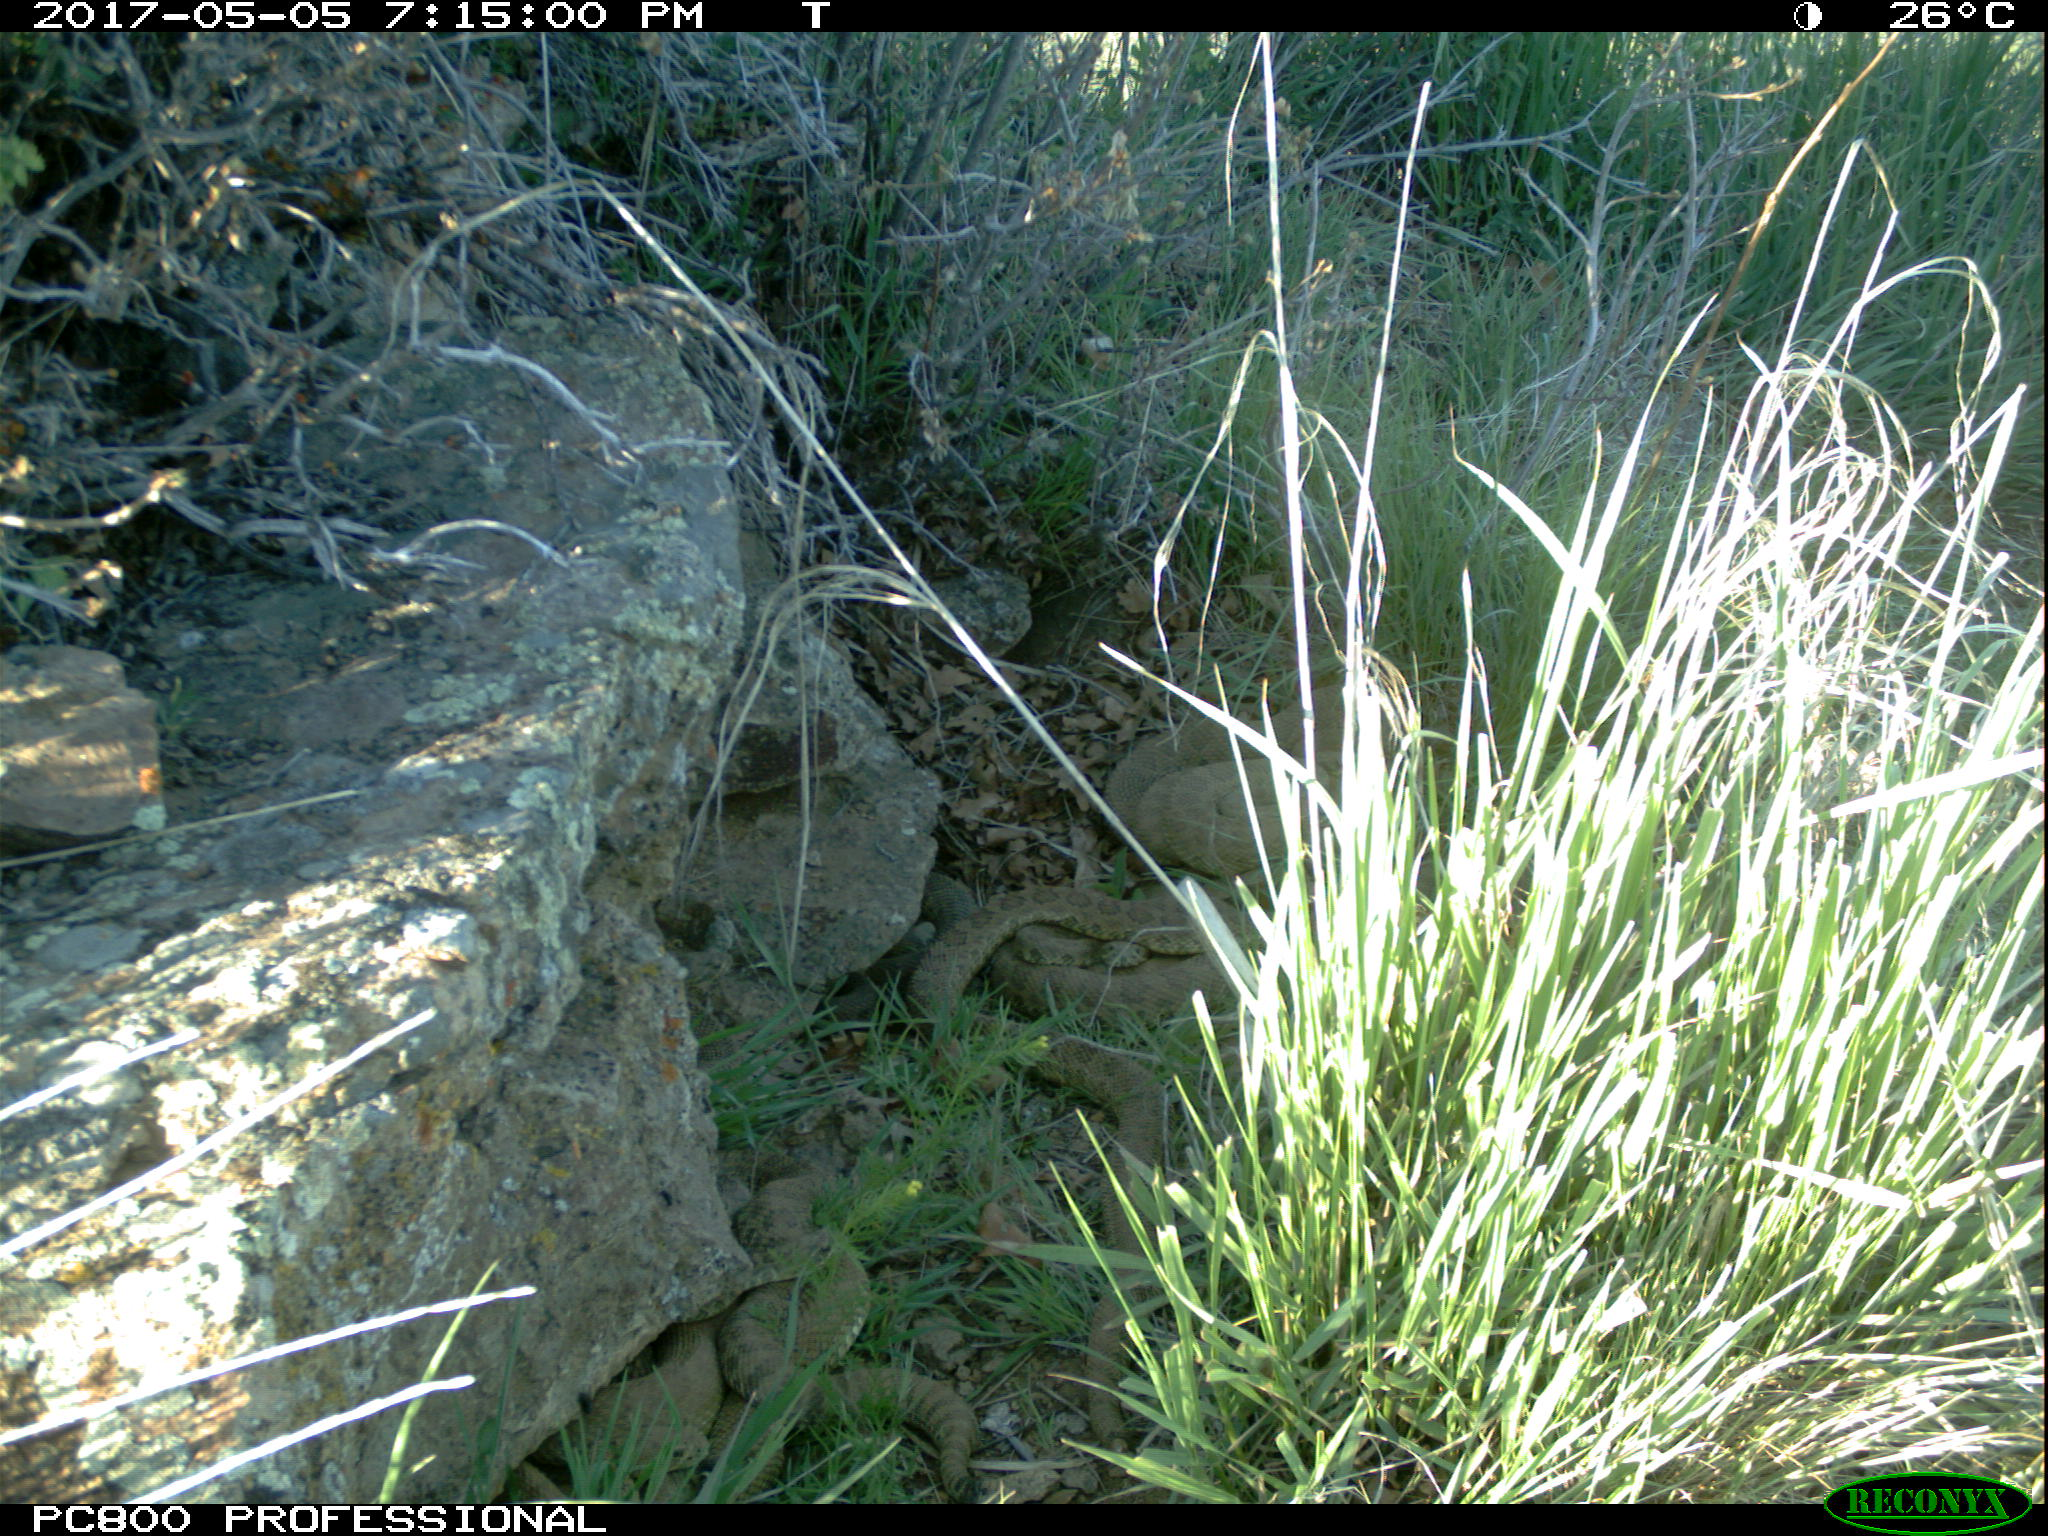snake: (1106, 624, 1413, 883), (743, 1181, 992, 1492), (924, 878, 1234, 1079), (1053, 1029, 1169, 1475), (558, 1320, 818, 1459)
